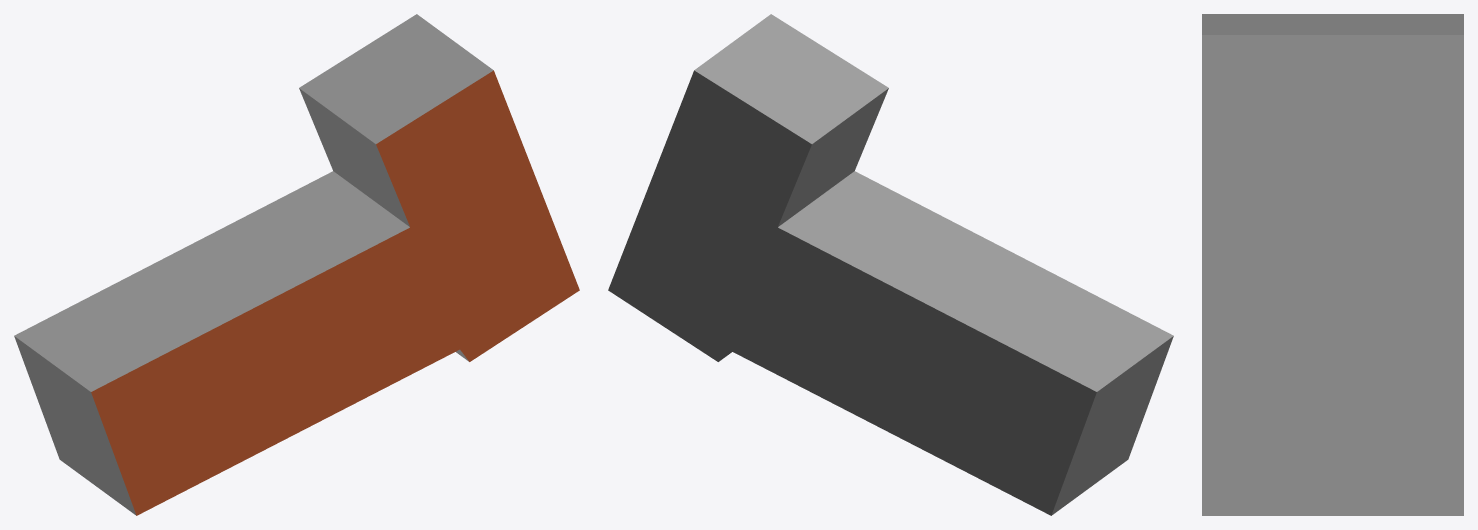
The model's file is construction_5198_assumed_A_Casa_h6m.obj.
3 renders of one model, left to right at view 1: azimuth 30°, elevation 25°; view 2: azimuth 150°, elevation 25°; view 3: azimuth 270°, elevation 25°, orthographic. The views are drawn at different scales.
Parts seen in each view (by area): view 1: construction_5198_assumed_A_Casa; view 2: construction_5198_assumed_A_Casa; view 3: construction_5198_assumed_A_Casa.
Boxes of the visible parts, x1,y1,x2,y2 form: construction_5198_assumed_A_Casa: (14, 14, 579, 515); construction_5198_assumed_A_Casa: (608, 14, 1173, 515); construction_5198_assumed_A_Casa: (1202, 14, 1463, 515).
Bounding box in the file's own units: 21.99 × 15.41 × 6.
